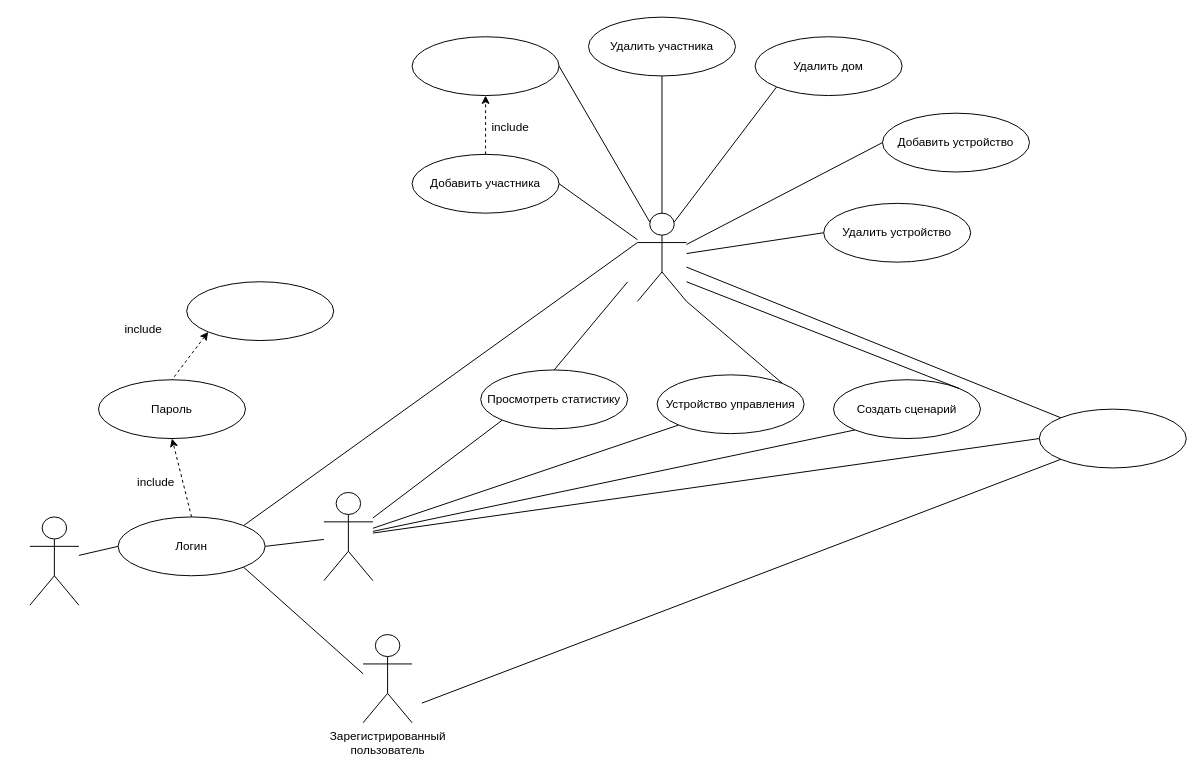
Some shapes in this 1203 by 775 pixel diagram are drawn without their labels. The centre of each missing label's shape, as x and y in pixels:
"Владелец" belongs at [661,256].
"Зарегистрировать пользователя" belongs at [260,311].
"Новый пользователь" belongs at [54,560].
"Определить уровень доступа участника" belongs at [485,66].
"Создать дом" belongs at [1112,438].
"Участник дома" belongs at [348,536].
